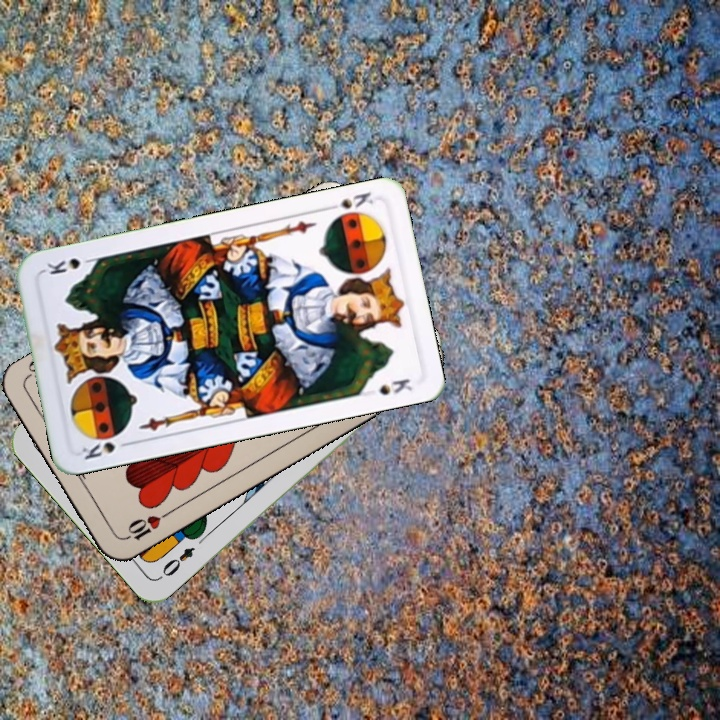EO: (158, 542, 198, 579)
H10: (119, 507, 173, 544)
SK: (78, 429, 135, 462), (322, 187, 376, 214)
